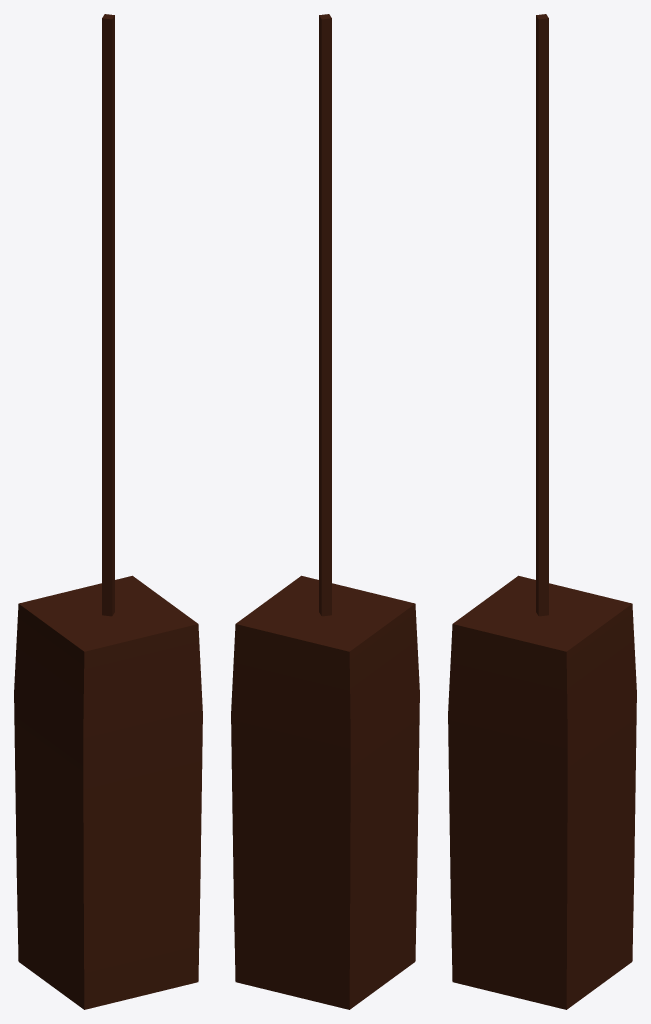
Rendered from lantern01.fbx.
3 renders of one model, left to right at view 1: azimuth 30°, elevation 25°; view 2: azimuth 150°, elevation 25°; view 3: azimuth 330°, elevation 25°, orthographic.
Visible parts, largest first — view 1: lantern01; view 2: lantern01; view 3: lantern01.
Part boxes in pixels (x1,y1,x2,y2): lantern01: (14, 14, 202, 1009); lantern01: (231, 14, 419, 1009); lantern01: (448, 14, 636, 1009).
Bounding box in the file's own units: 25.2 × 192 × 25.2.
